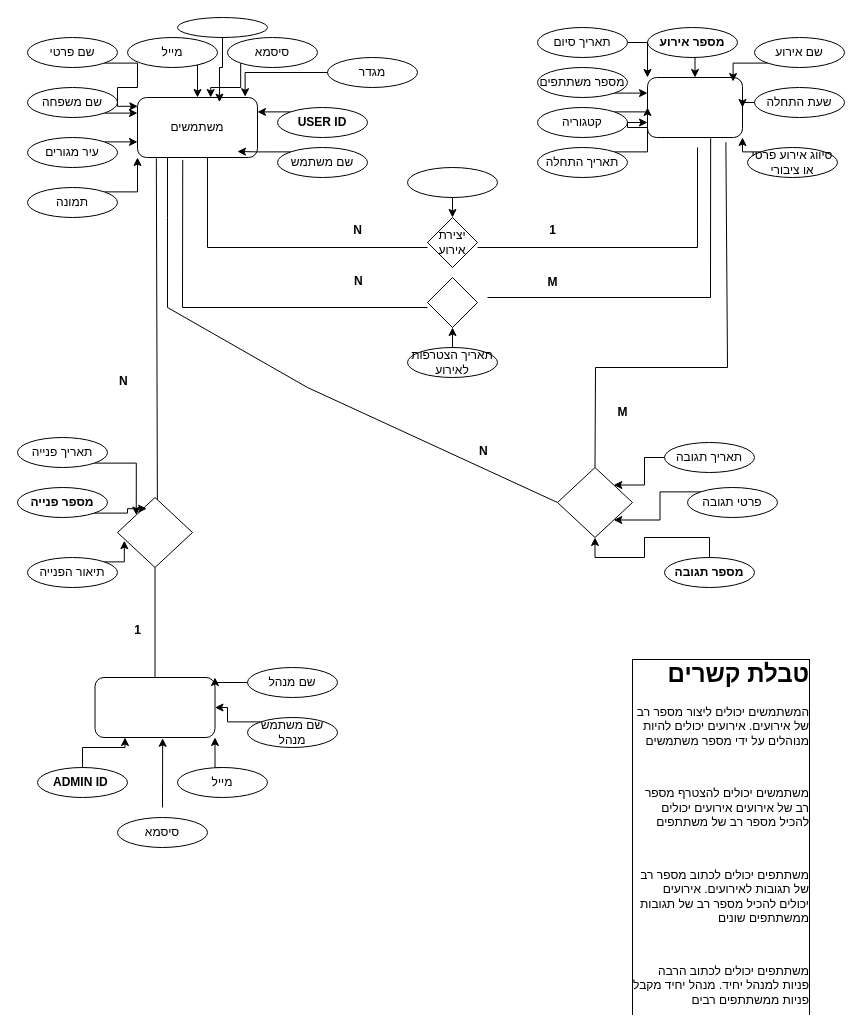
Image size: 862x1033. Some labels were removed from this diagram. Each missing label, with the centre of its shape:
"אירועים" belongs at point 694,107.
"הצרטרפות לאירוע" belongs at point 452,302.
"כתיבת פנייה למנהל" belongs at point 154,532.
"כתיבת תגובה לאירוע" belongs at point 594,502.
"מנהל" belongs at point 154,707.
"רשימת חברים" belongs at point 222,27.
"תאריך יצירת אירוע" belongs at point 452,182.
